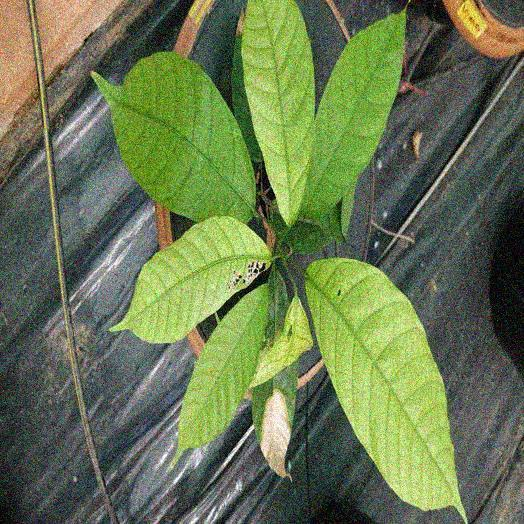Iron: (306, 258, 466, 522), (93, 52, 254, 221), (300, 10, 404, 218), (111, 217, 271, 342), (173, 284, 267, 463), (242, 0, 314, 225), (250, 275, 312, 477)
